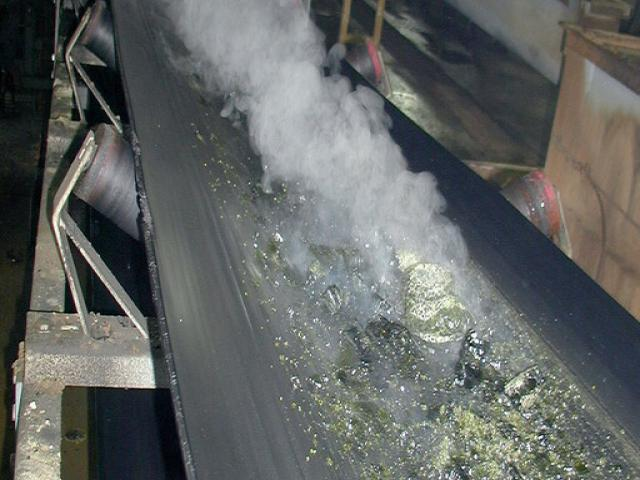conveyor: (89, 2, 640, 480)
